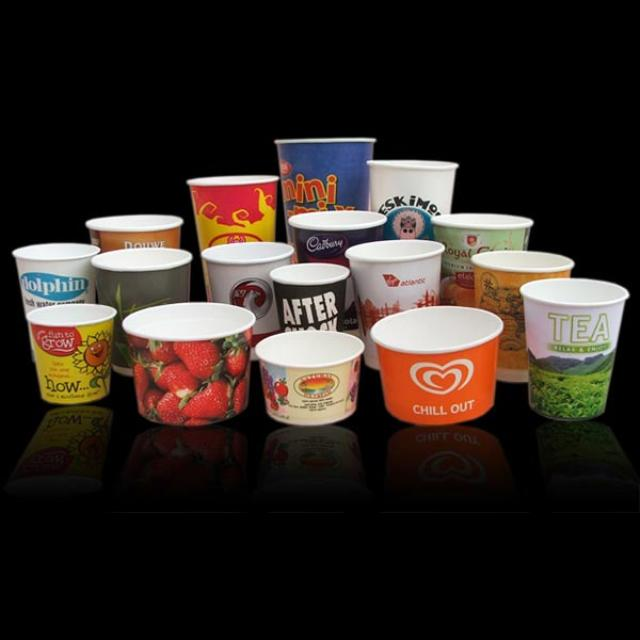trash: (122, 301, 256, 425), (371, 304, 505, 424), (521, 277, 629, 419), (256, 332, 364, 424), (28, 304, 116, 404)
